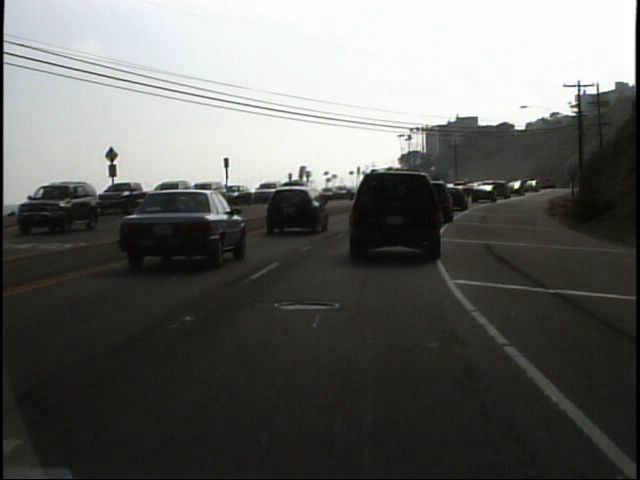person: (71, 179, 91, 219)
